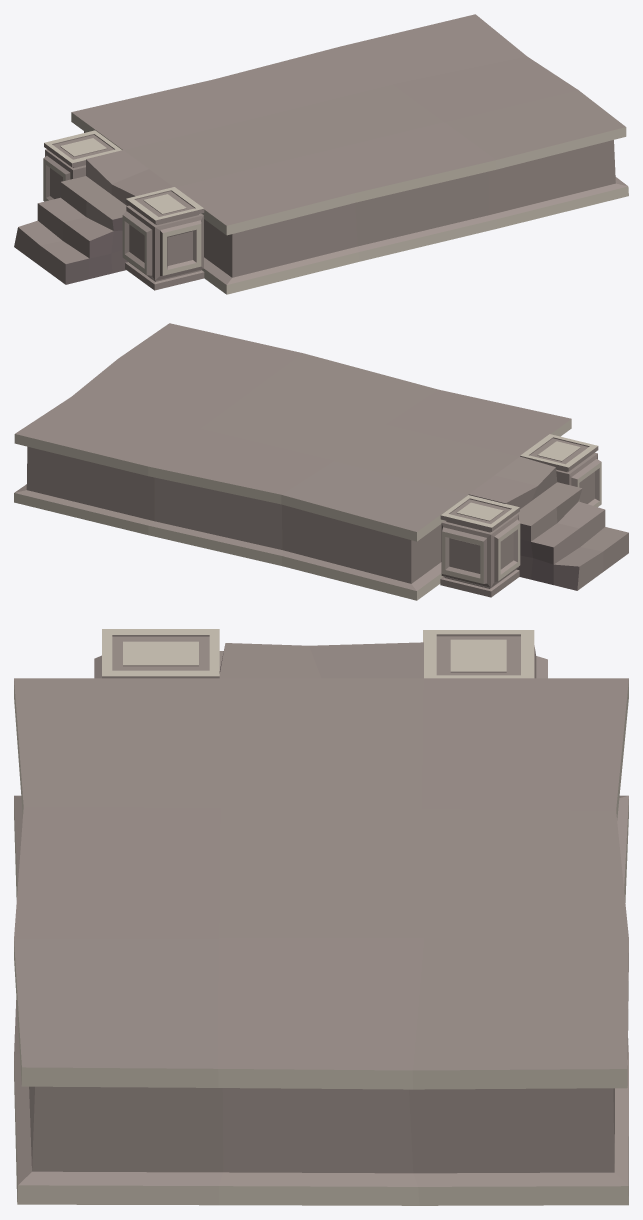
The model's file is Greek_Foundation.fbx.
3 views of the same model, one above another, from view 1: azimuth 30°, elevation 25°; view 2: azimuth 150°, elevation 25°; view 3: azimuth 270°, elevation 25° (orthographic). The views are drawn at different scales.
Visible parts, largest first — view 1: Greek_Foundation; view 2: Greek_Foundation; view 3: Greek_Foundation.
Boxes of the visible parts, x1,y1,x2,y2 form: Greek_Foundation: (14,14,628,294); Greek_Foundation: (14,323,628,600); Greek_Foundation: (14,629,628,1205).
Size of the model in its own units: 248 by 130 by 33.
